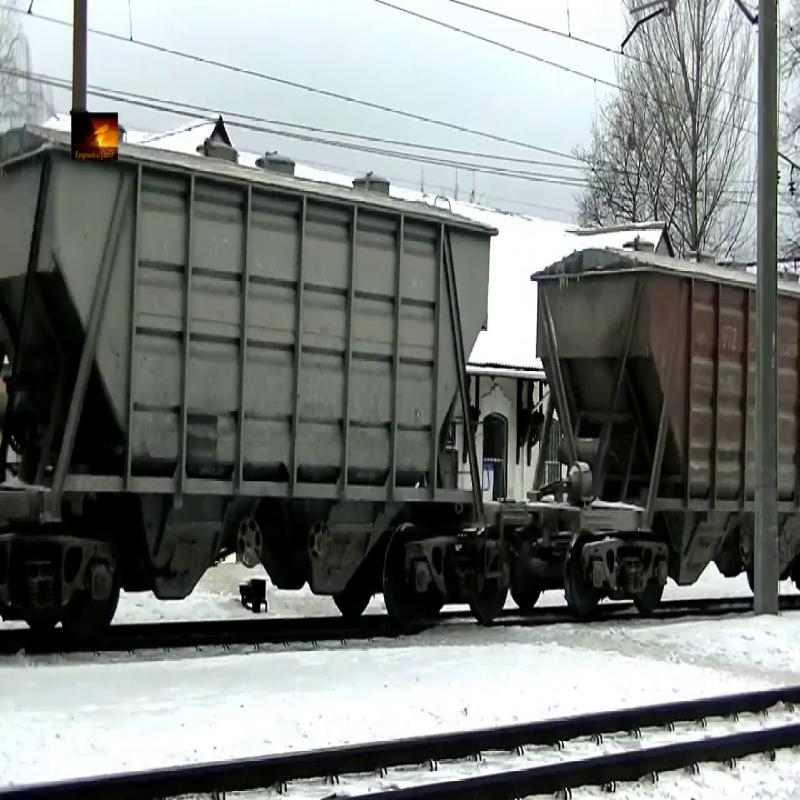train: (1, 147, 497, 623), (530, 254, 754, 622)
